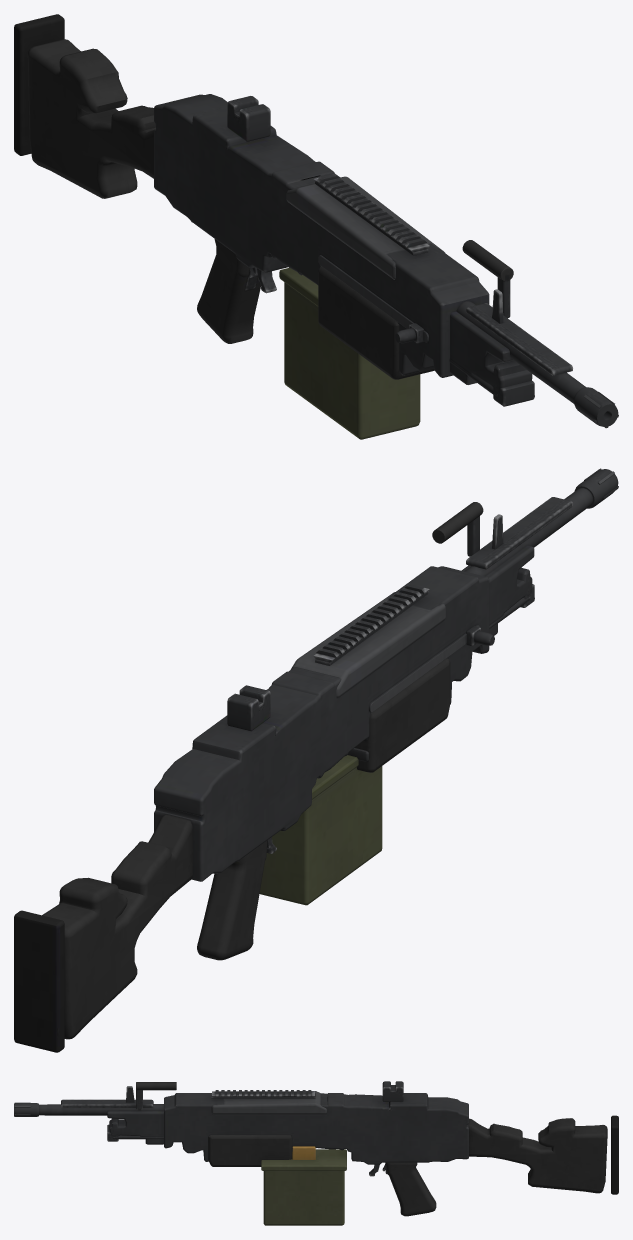
Rendered from lmg_m249.glb.
3 renders of one model, top to bottom at view 1: azimuth 30°, elevation 25°; view 2: azimuth 150°, elevation 25°; view 3: azimuth 270°, elevation 25°, orthographic. The views are drawn at different scales.
Visible parts, largest first — view 1: body, mag_mesh; view 2: body, mag_mesh; view 3: body, mag_mesh.
Boxes of the visible parts, x1,y1,x2,y2 form: body: (14,14,618,428); mag_mesh: (279,267,420,439); body: (14,468,618,1052); mag_mesh: (259,755,382,905); body: (14,1081,618,1216); mag_mesh: (261,1146,346,1225).
Size of the model in its own units: 0.105 by 0.2585 by 1.05.
Materials: 1 (1 with a texture image).
